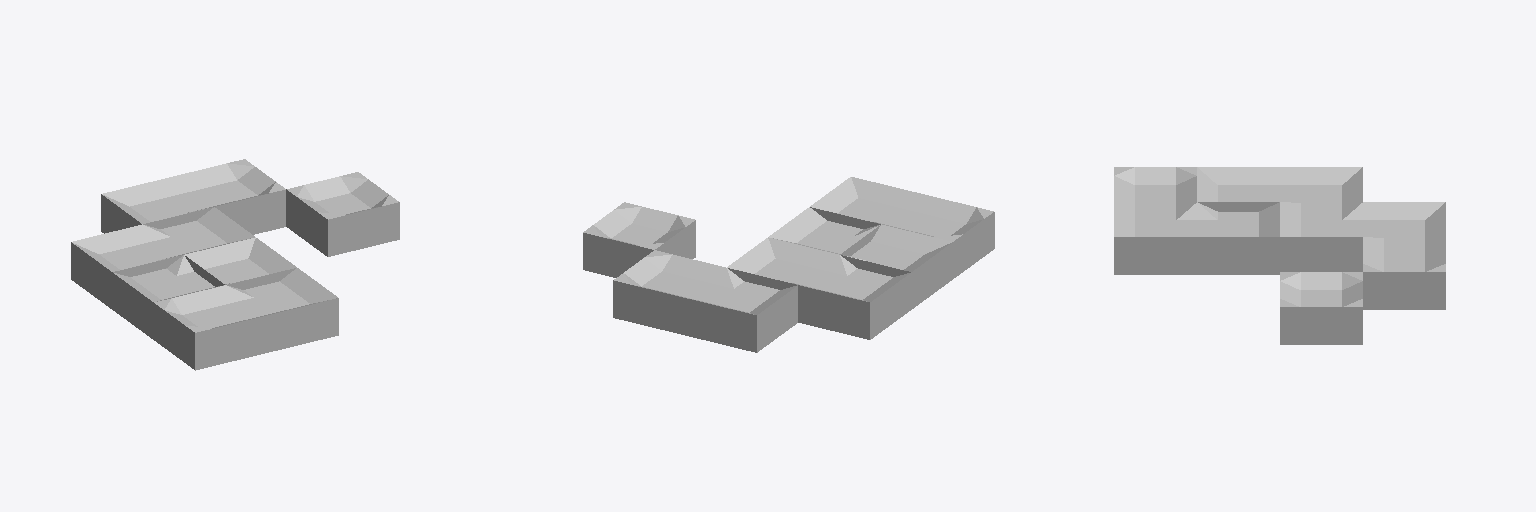
The model's file is 77f_path.obj.
The picture shows the model from 3 angles: view 1: azimuth 30°, elevation 25°; view 2: azimuth 150°, elevation 25°; view 3: azimuth 270°, elevation 25°; orthographic projection.
Parts seen in each view (by area): view 1: foil.hole.4.3_Cube.305, foil.ending.1.1_ending.607, foil.corner.2.1_corner.1512, foil.ending.3.4_ending.608, foil.corner.1.3_corner.1511, foil.corner.1.2_corner.1510, foil.corner.2.4_corner.1515, foil.corner.2.2_corner.1513, foil.corner.2.3_corner.1514; view 2: foil.corner.1.3_corner.1511, foil.corner.2.4_corner.1515, foil.ending.3.4_ending.608, foil.hole.4.3_Cube.305, foil.corner.1.2_corner.1510, foil.ending.1.1_ending.607, foil.corner.2.1_corner.1512, foil.corner.2.3_corner.1514, foil.corner.2.2_corner.1513; view 3: foil.hole.4.3_Cube.305, foil.corner.2.2_corner.1513, foil.corner.2.1_corner.1512, foil.ending.3.4_ending.608, foil.corner.2.3_corner.1514, foil.corner.2.4_corner.1515, foil.corner.1.3_corner.1511, foil.ending.1.1_ending.607, foil.corner.1.2_corner.1510.
Part boxes in pixels (x1,y1,x2,y2): foil.hole.4.3_Cube.305: (286, 172, 399, 256); foil.ending.1.1_ending.607: (154, 285, 266, 370); foil.corner.2.1_corner.1512: (226, 268, 338, 352); foil.ending.3.4_ending.608: (173, 159, 285, 234); foil.corner.1.3_corner.1511: (71, 224, 182, 308); foil.corner.1.2_corner.1510: (112, 255, 223, 339); foil.corner.2.4_corner.1515: (101, 177, 212, 233); foil.corner.2.2_corner.1513: (185, 237, 296, 285); foil.corner.2.3_corner.1514: (143, 207, 254, 255); foil.corner.1.3_corner.1511: (798, 255, 911, 339); foil.corner.2.4_corner.1515: (685, 268, 797, 352); foil.ending.3.4_ending.608: (613, 250, 725, 334); foil.hole.4.3_Cube.305: (583, 202, 695, 277); foil.corner.1.2_corner.1510: (840, 224, 952, 308); foil.ending.1.1_ending.607: (886, 194, 994, 278); foil.corner.2.1_corner.1512: (810, 177, 921, 228); foil.corner.2.3_corner.1514: (727, 237, 838, 289); foil.corner.2.2_corner.1513: (769, 207, 880, 255); foil.hole.4.3_Cube.305: (1280, 272, 1362, 344); foil.corner.2.2_corner.1513: (1197, 202, 1279, 274); foil.corner.2.1_corner.1512: (1114, 202, 1196, 274); foil.ending.3.4_ending.608: (1363, 237, 1445, 309); foil.corner.2.3_corner.1514: (1280, 202, 1362, 271); foil.corner.2.4_corner.1515: (1363, 202, 1445, 246); foil.corner.1.3_corner.1511: (1280, 167, 1362, 211); foil.ending.1.1_ending.607: (1114, 167, 1196, 211); foil.corner.1.2_corner.1510: (1197, 167, 1279, 211).
Bounding box in the file's own units: 8 × 1 × 8.